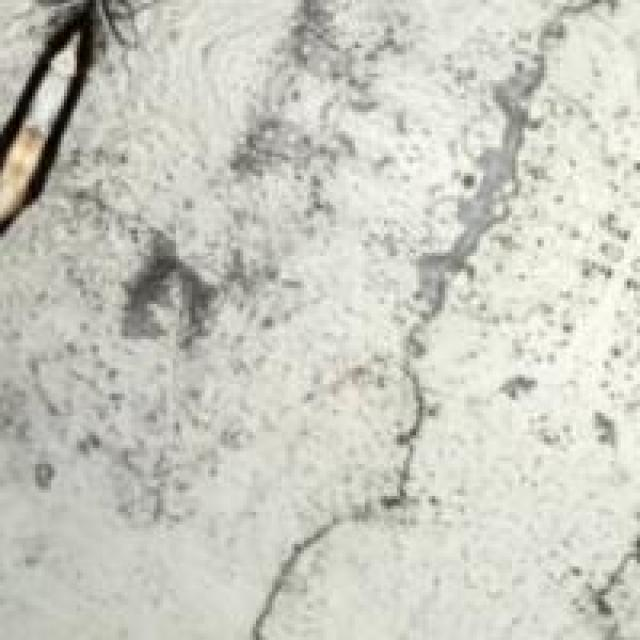crack: (218, 307, 547, 637)
